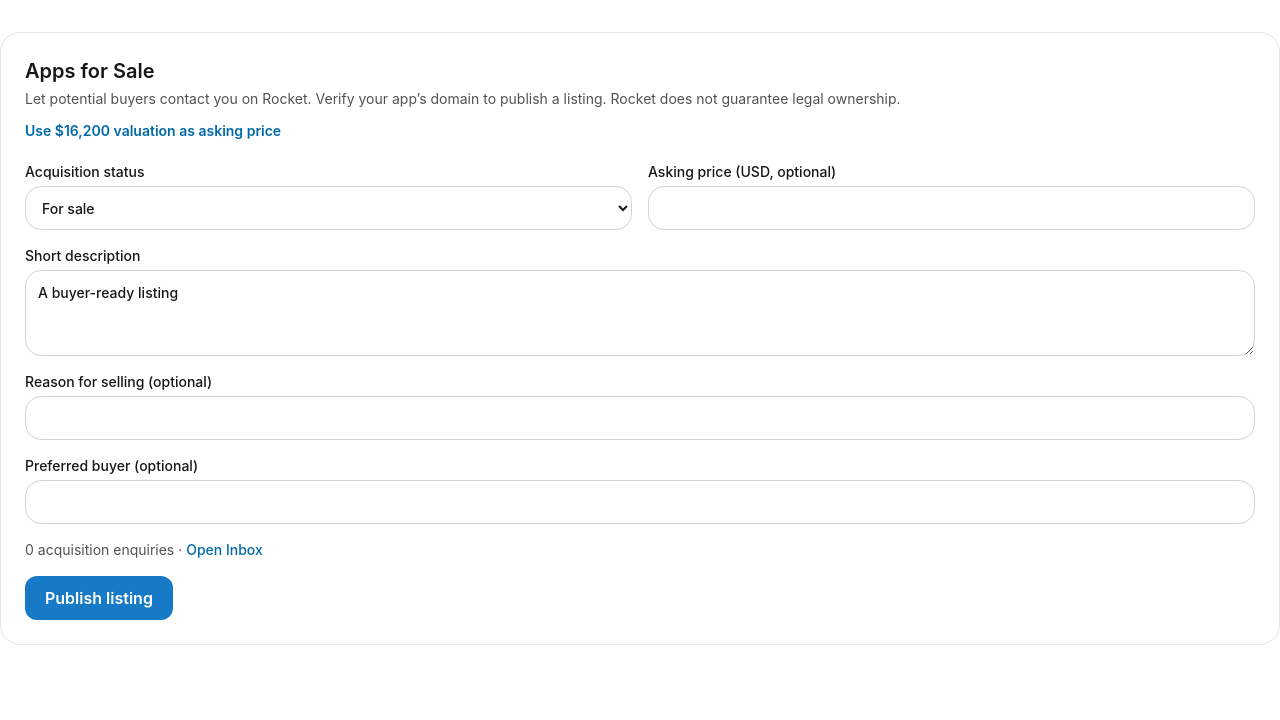
Test: selling after a valuation › offers a later valuation without discarding unsaved listing details
Earlier steps of the test are not shown.
Expected: the text box labelled "Short description" holds "A buyer-ready listing", [25,270,1255,356]
Expected: the number field labelled "Asking price (USD, optional)" is empty, [648,186,1255,230]
Click the button "Use $16,200 valuation as asking price": (153, 131) [25,121,281,141]
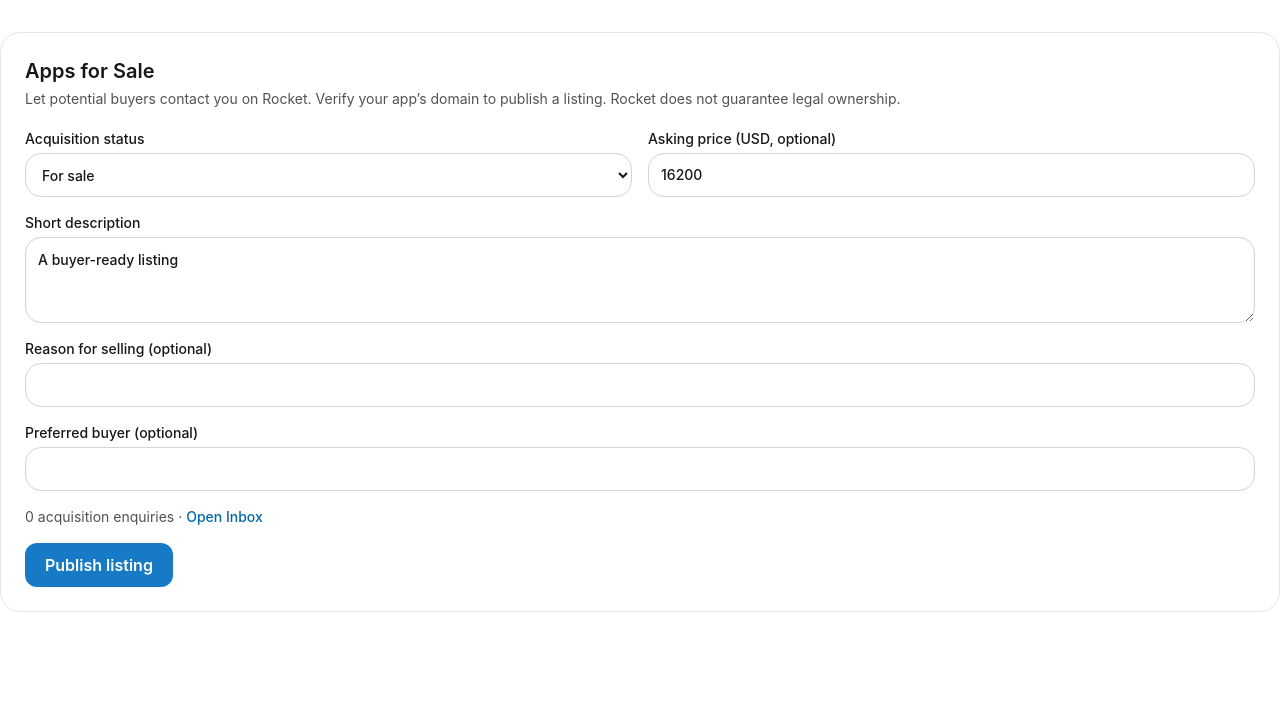
Expected: the text box labelled "Short description" holds "A buyer-ready listing", [25,237,1255,323]
Expected: the number field labelled "Asking price (USD, optional)" holds "16200", [648,153,1255,197]
